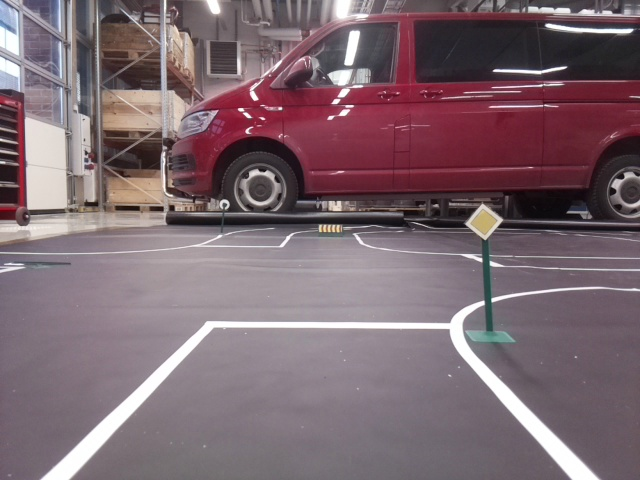Priority: (462, 204, 502, 238)
